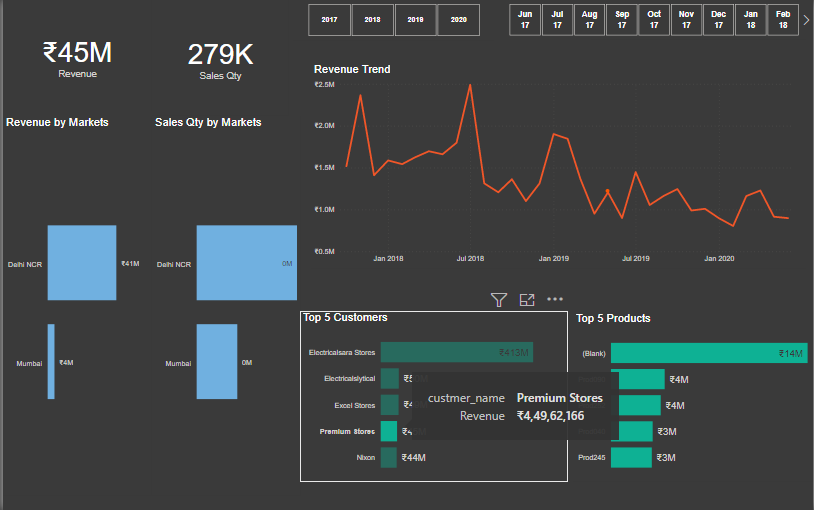

This screenshot's page, from the dashboard's own definition file:
{"tool":"powerbi","page":{"name":"Key Insights","canvas":[1350,850],"ordinal":0},"visuals":[{"type":"card","fields":{"Values":["BaseMeasures (2).Revenue"]},"box":[0,0,247.9,184.6],"z":0},{"type":"card","fields":{"Values":["BaseMeasures (2).Sales Qty"]},"box":[247.9,0,227.9,193.1],"z":1000},{"type":"barChart","title":"Revenue by Markets","fields":{"Y":["BaseMeasures (2).Revenue"],"Category":["sales markets.markets_name"]},"box":[0,193.1,247.9,631.9],"z":2000},{"type":"barChart","title":"Sales Qty by Markets","fields":{"Y":["BaseMeasures (2).Sales Qty"],"Category":["sales markets.markets_name"]},"box":[247.9,193.1,247.9,631.9],"z":3000},{"type":"slicer","fields":{"Values":["sales date.year"]},"box":[483.3,0,335,66.7],"z":4000},{"type":"slicer","fields":{"Values":["sales date.cy_date"]},"box":[818.6,0,531.7,66.5],"z":5000},{"type":"barChart","title":"Top 5 Customers","fields":{"Y":["BaseMeasures (2).Revenue"],"Category":["sales customers.custmer_name"]},"box":[495,518.3,446.7,285],"z":6000},{"type":"barChart","title":"Top 5 Products","fields":{"Y":["BaseMeasures (2).Revenue"],"Category":["sales products.product_code"]},"box":[950.7,519.2,399.5,282.8],"z":7000},{"type":"lineChart","title":"Revenue Trend","fields":{"Y":["BaseMeasures (2).Revenue"],"Category":["sales date.cy_date"]},"box":[513.3,105,825,341.7],"z":8000}]}

Visuals, with their boxes in screenshot pixels (x1, y1, x2, y2), scaled from the page's 1350x850 canvas onto the 814x510 screenshot:
card - BaseMeasures (2).Revenue: Rect(0, 0, 149, 111)
card - BaseMeasures (2).Sales Qty: Rect(149, 0, 287, 116)
"Revenue by Markets" barChart: Rect(0, 116, 149, 495)
"Sales Qty by Markets" barChart: Rect(149, 116, 299, 495)
slicer - sales date.year: Rect(291, 0, 493, 40)
slicer - sales date.cy_date: Rect(494, 0, 813, 40)
"Top 5 Customers" barChart: Rect(298, 311, 568, 482)
"Top 5 Products" barChart: Rect(573, 312, 813, 481)
"Revenue Trend" lineChart: Rect(310, 63, 807, 268)
